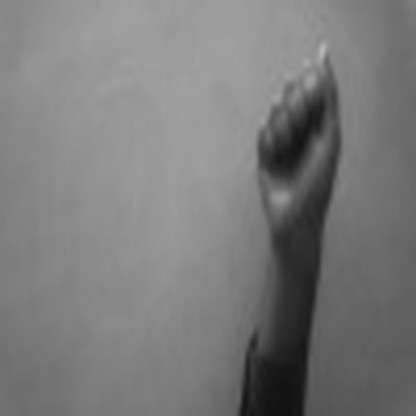a: (239, 36, 353, 244)
